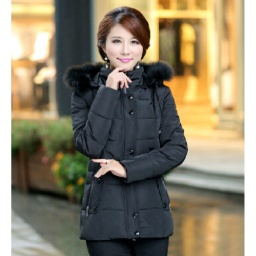face: (89, 5, 153, 81)
